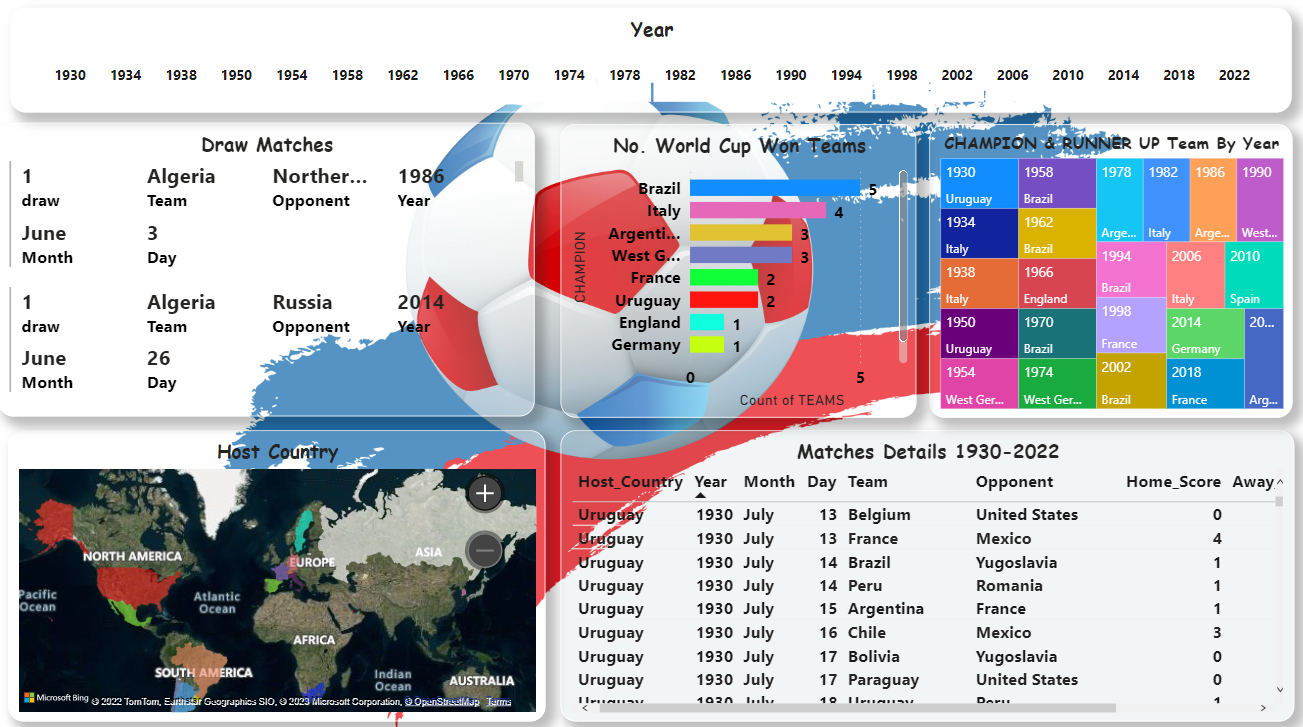

This screenshot's page, from the dashboard's own definition file:
{"tool":"powerbi","page":{"name":"Page 1","canvas":[1280,720],"ordinal":0},"visuals":[{"type":"slicer","title":"Year","fields":{"Values":["Fifa 1930-2022.Year"]},"box":[12.2,13.4,1253,102.7],"z":0},{"type":"filledMap","title":"Host Country","fields":{"Category":["Fifa 1930-2022.country"]},"box":[9.8,426.6,525.6,284.8],"z":1000},{"type":"tableEx","title":"Matches Details 1930-2022","fields":{"Values":["Fifa 1930-2022.Country","Fifa 1930-2022.date.Variation.Date Hierarchy.Year","Fifa 1930-2022.date.Variation.Date Hierarchy.Month","Fifa 1930-2022.date.Variation.Date Hierarchy.Day","Fifa 1930-2022.team","Fifa 1930-2022.opponent","Fifa 1930-2022.Home_Score","Sum(Fifa 1930-2022.away_score)","Fifa 1930-2022.winning_team"]},"box":[550.1,426.6,717.6,284.8],"z":2000},{"type":"multiRowCard","title":"Draw Matches","fields":{"Values":["Fifa 1930-2022.draw","Fifa 1930-2022.Team","Fifa 1930-2022.Opponent","Fifa 1930-2022.Date.Variation.Date Hierarchy.Year","Fifa 1930-2022.Date.Variation.Date Hierarchy.Month","Fifa 1930-2022.Date.Variation.Date Hierarchy.Day"]},"box":[0,125.9,524.4,287.3],"z":3000},{"type":"treemap","title":"CHAMPION & RUNNER UP Team By Year","fields":{"Group":["FIFA - World Cup Summary.YEAR"],"Details":["FIFA - World Cup Summary.CHAMPION"],"Values":["CountNonNull(FIFA - World Cup Summary.GOALS SCORED)"]},"box":[911,127,355,287],"z":4000},{"type":"barChart","title":"No. World Cup Won Teams","fields":{"Category":["FIFA - World Cup Summary.CHAMPION"],"Y":["CountNonNull(FIFA - World Cup Summary.TEAMS)"]},"box":[550.1,127.1,348.4,287.3],"z":5000}]}

Visuals, with their boxes in screenshot pixels (x1, y1, x2, y2), scaled from the page's 1280x720 canvas onto the 1303x727 screenshot:
"Year" slicer: left=12, top=14, right=1288, bottom=117
"Host Country" filledMap: left=10, top=431, right=545, bottom=718
"Matches Details 1930-2022" tableEx: left=560, top=431, right=1290, bottom=718
"Draw Matches" multiRowCard: left=0, top=127, right=534, bottom=417
"CHAMPION & RUNNER UP Team By Year" treemap: left=927, top=128, right=1289, bottom=418
"No. World Cup Won Teams" barChart: left=560, top=128, right=915, bottom=418
